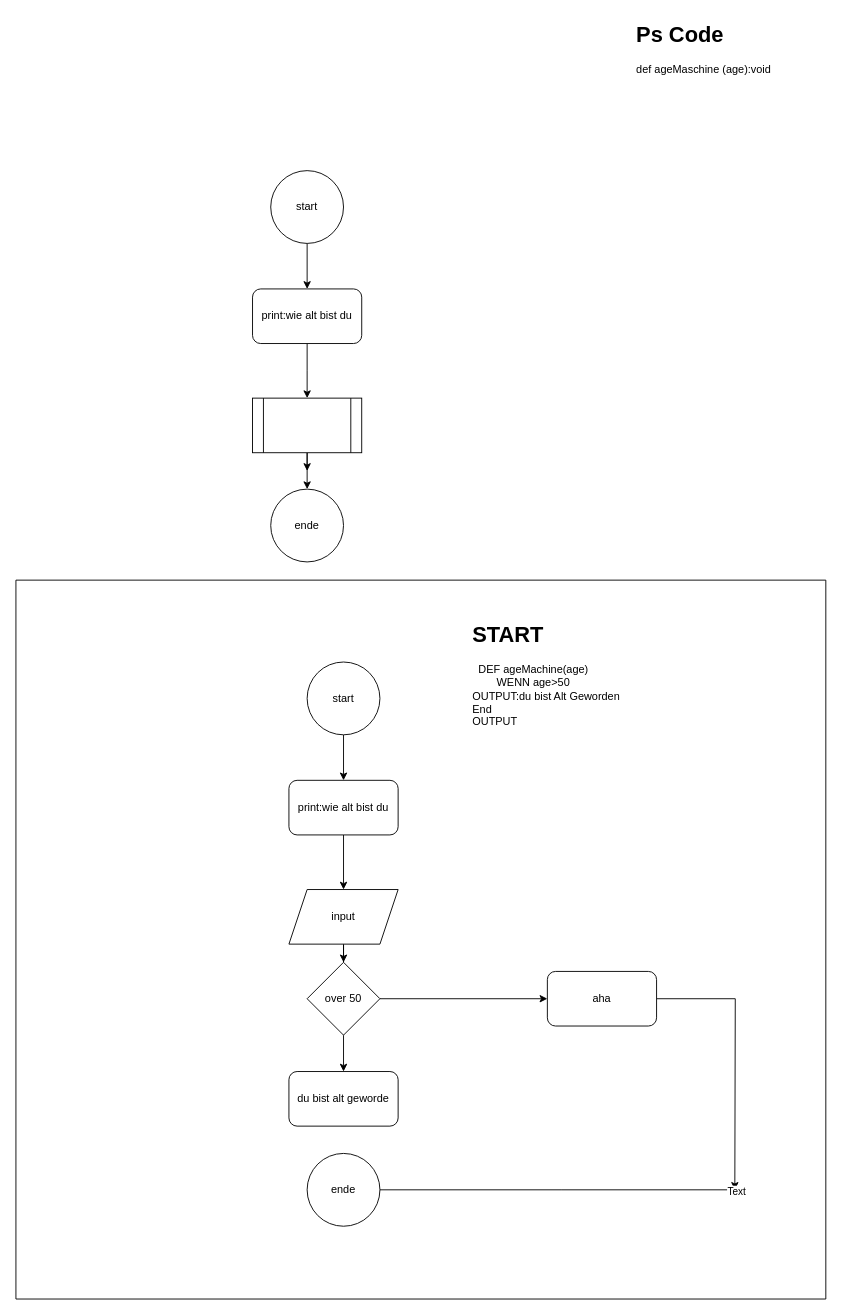
This 842x1315 diagram has some shape labels left out. Each missing label, with the box of its shape:
ageMachine: (252, 397, 362, 453)
Rutine ageMachine: (15, 579, 826, 1299)
